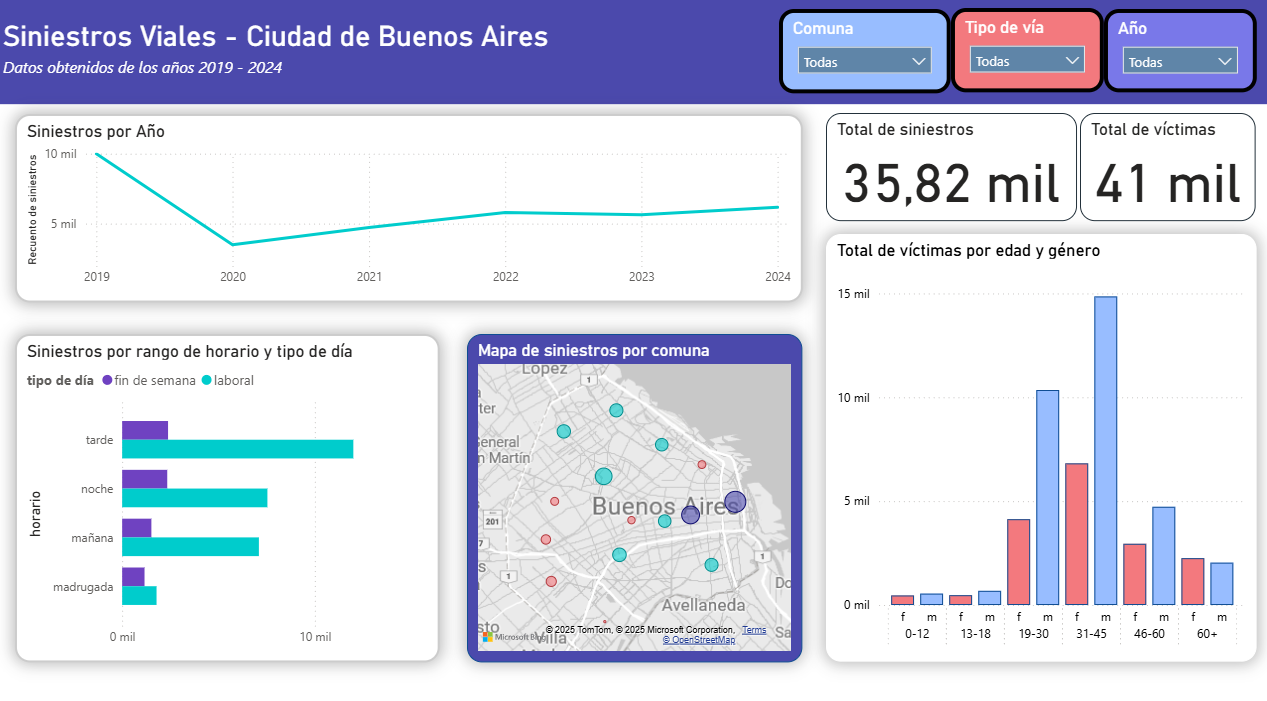

The page's visual inventory and layout, read from the dashboard file:
{"tool":"powerbi","page":{"name":"Página 1","canvas":[1280,720],"ordinal":0},"visuals":[{"type":"map","title":"Mapa de siniestros por comuna","fields":{"Category":["siniestros_viales_hechos_limpio.comuna_siniestro"],"Size":["siniestros_viales_hechos_limpio.total_siniestros_comuna"]},"box":[880.8,163.3,327.5,345.8],"z":0},{"type":"clusteredBarChart","title":"Cantidad de siniestros por horario y tipo de día","fields":{"Series":["siniestros_viales_hechos_limpio.tipo_dia"],"Category":["siniestros_viales_hechos_limpio.rango_horario"],"Y":["siniestros_viales_hechos_limpio.total_siniestros"]},"box":[825.5,516.9,454.9,203.1],"z":1000},{"type":"card","fields":{"Values":["siniestros_viales_hechos_limpio.total_siniestros"]},"box":[0,163.2,168.5,117],"z":2000},{"type":"lineChart","title":"Total de siniestros por año","fields":{"Category":["siniestros_viales_hechos_limpio.fecha_siniestro.Variación.Jerarquía de fechas.Año"],"Y":["siniestros_viales_hechos_limpio.total_siniestros"]},"box":[0,516.9,556.8,203.1],"z":3000},{"type":"card","fields":{"Values":["Sum(siniestros_viales_hechos_limpio.numero_total_de_victimas)"]},"box":[179.1,163.2,166.7,117],"z":4000}]}

Visuals, with their boxes in screenshot pixels (x1, y1, x2, y2), scaled from the page's 1280x720 canvas onto the 1267x701 screenshot:
"Mapa de siniestros por comuna" map: bbox(872, 159, 1196, 496)
"Cantidad de siniestros por horario y tipo de día" clusteredBarChart: bbox(817, 503, 1266, 700)
card - siniestros_viales_hechos_limpio.total_siniestros: bbox(0, 159, 167, 273)
"Total de siniestros por año" lineChart: bbox(0, 503, 551, 700)
card - Sum(siniestros_viales_hechos_limpio.numero_total_de_victimas): bbox(177, 159, 342, 273)
